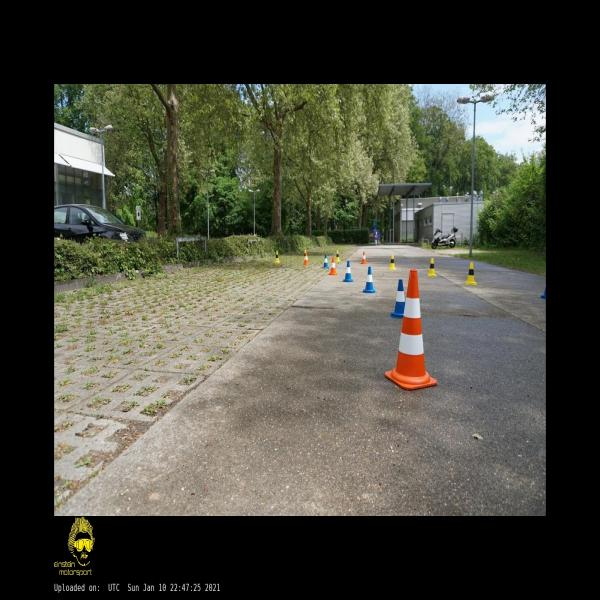blue_cone: (390, 280, 405, 318), (363, 267, 376, 293), (343, 260, 353, 282), (323, 254, 329, 268)
large_orange_cone: (385, 270, 437, 390)
orange_cone: (329, 257, 337, 275), (360, 251, 368, 264), (304, 252, 308, 265)
yellow_cone: (466, 262, 476, 284), (427, 258, 437, 276), (389, 254, 396, 270), (334, 250, 340, 262), (274, 251, 280, 263)
